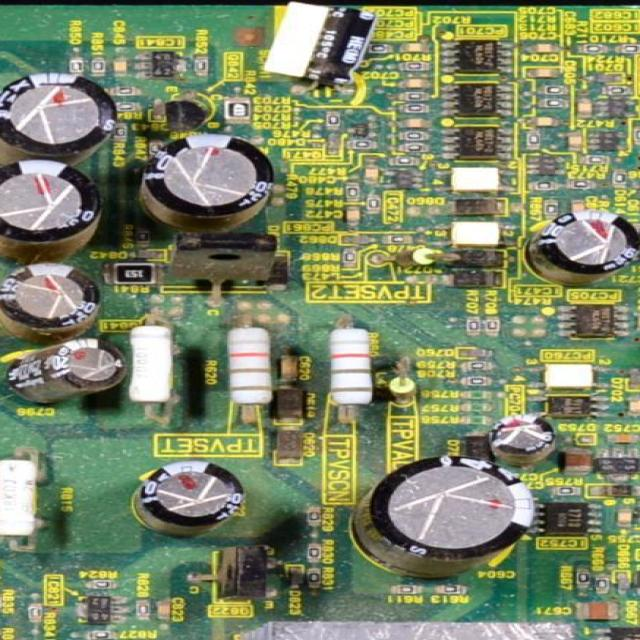IC: (549, 304, 628, 344), (438, 82, 512, 124), (438, 126, 515, 166), (434, 40, 511, 75), (530, 502, 605, 537), (536, 393, 611, 423), (75, 592, 132, 628), (135, 50, 192, 84), (594, 447, 640, 486), (587, 625, 640, 640), (629, 494, 640, 528)
capacitor: (576, 601, 620, 622), (610, 433, 640, 445), (629, 397, 640, 416), (114, 61, 126, 77), (528, 43, 550, 51), (158, 602, 169, 618), (568, 138, 582, 150), (346, 210, 360, 222), (397, 79, 425, 83), (368, 170, 379, 180), (580, 102, 589, 114), (536, 70, 551, 77), (635, 310, 640, 331), (404, 43, 420, 49), (404, 121, 422, 126), (538, 118, 555, 123), (576, 201, 584, 208)
resistor: (327, 323, 382, 411), (222, 323, 272, 411), (124, 325, 170, 407), (0, 457, 42, 540), (88, 577, 113, 585), (69, 62, 82, 74), (548, 89, 570, 96), (595, 579, 606, 593), (617, 173, 628, 185), (484, 322, 496, 333), (117, 89, 135, 96), (467, 406, 497, 410), (310, 544, 320, 556), (466, 394, 488, 399), (312, 572, 321, 584), (401, 106, 422, 111), (201, 60, 208, 75), (325, 115, 334, 126), (543, 203, 554, 212), (141, 602, 148, 616), (407, 131, 423, 137), (314, 510, 322, 522), (392, 588, 414, 592), (94, 61, 102, 72), (469, 320, 476, 332), (369, 201, 378, 210), (470, 378, 486, 383), (624, 47, 640, 52), (122, 107, 134, 113), (532, 135, 538, 147), (582, 574, 588, 586), (94, 634, 112, 638), (612, 88, 626, 93), (538, 184, 552, 189), (346, 251, 353, 261), (577, 181, 590, 186), (584, 157, 600, 161), (441, 586, 457, 590), (635, 131, 640, 143), (467, 416, 482, 420), (467, 364, 486, 367), (350, 188, 357, 196), (353, 143, 365, 147), (390, 238, 402, 242), (582, 47, 598, 50), (396, 156, 418, 158), (116, 129, 120, 138), (406, 146, 420, 148), (406, 96, 419, 98), (549, 102, 560, 104), (0, 594, 1, 612)
transistor: (591, 446, 640, 482), (390, 171, 418, 185), (632, 563, 640, 593), (354, 123, 372, 133)
